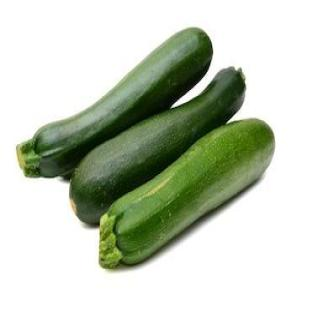Zucchini: (17, 28, 212, 176), (70, 68, 245, 223), (100, 119, 274, 267)
